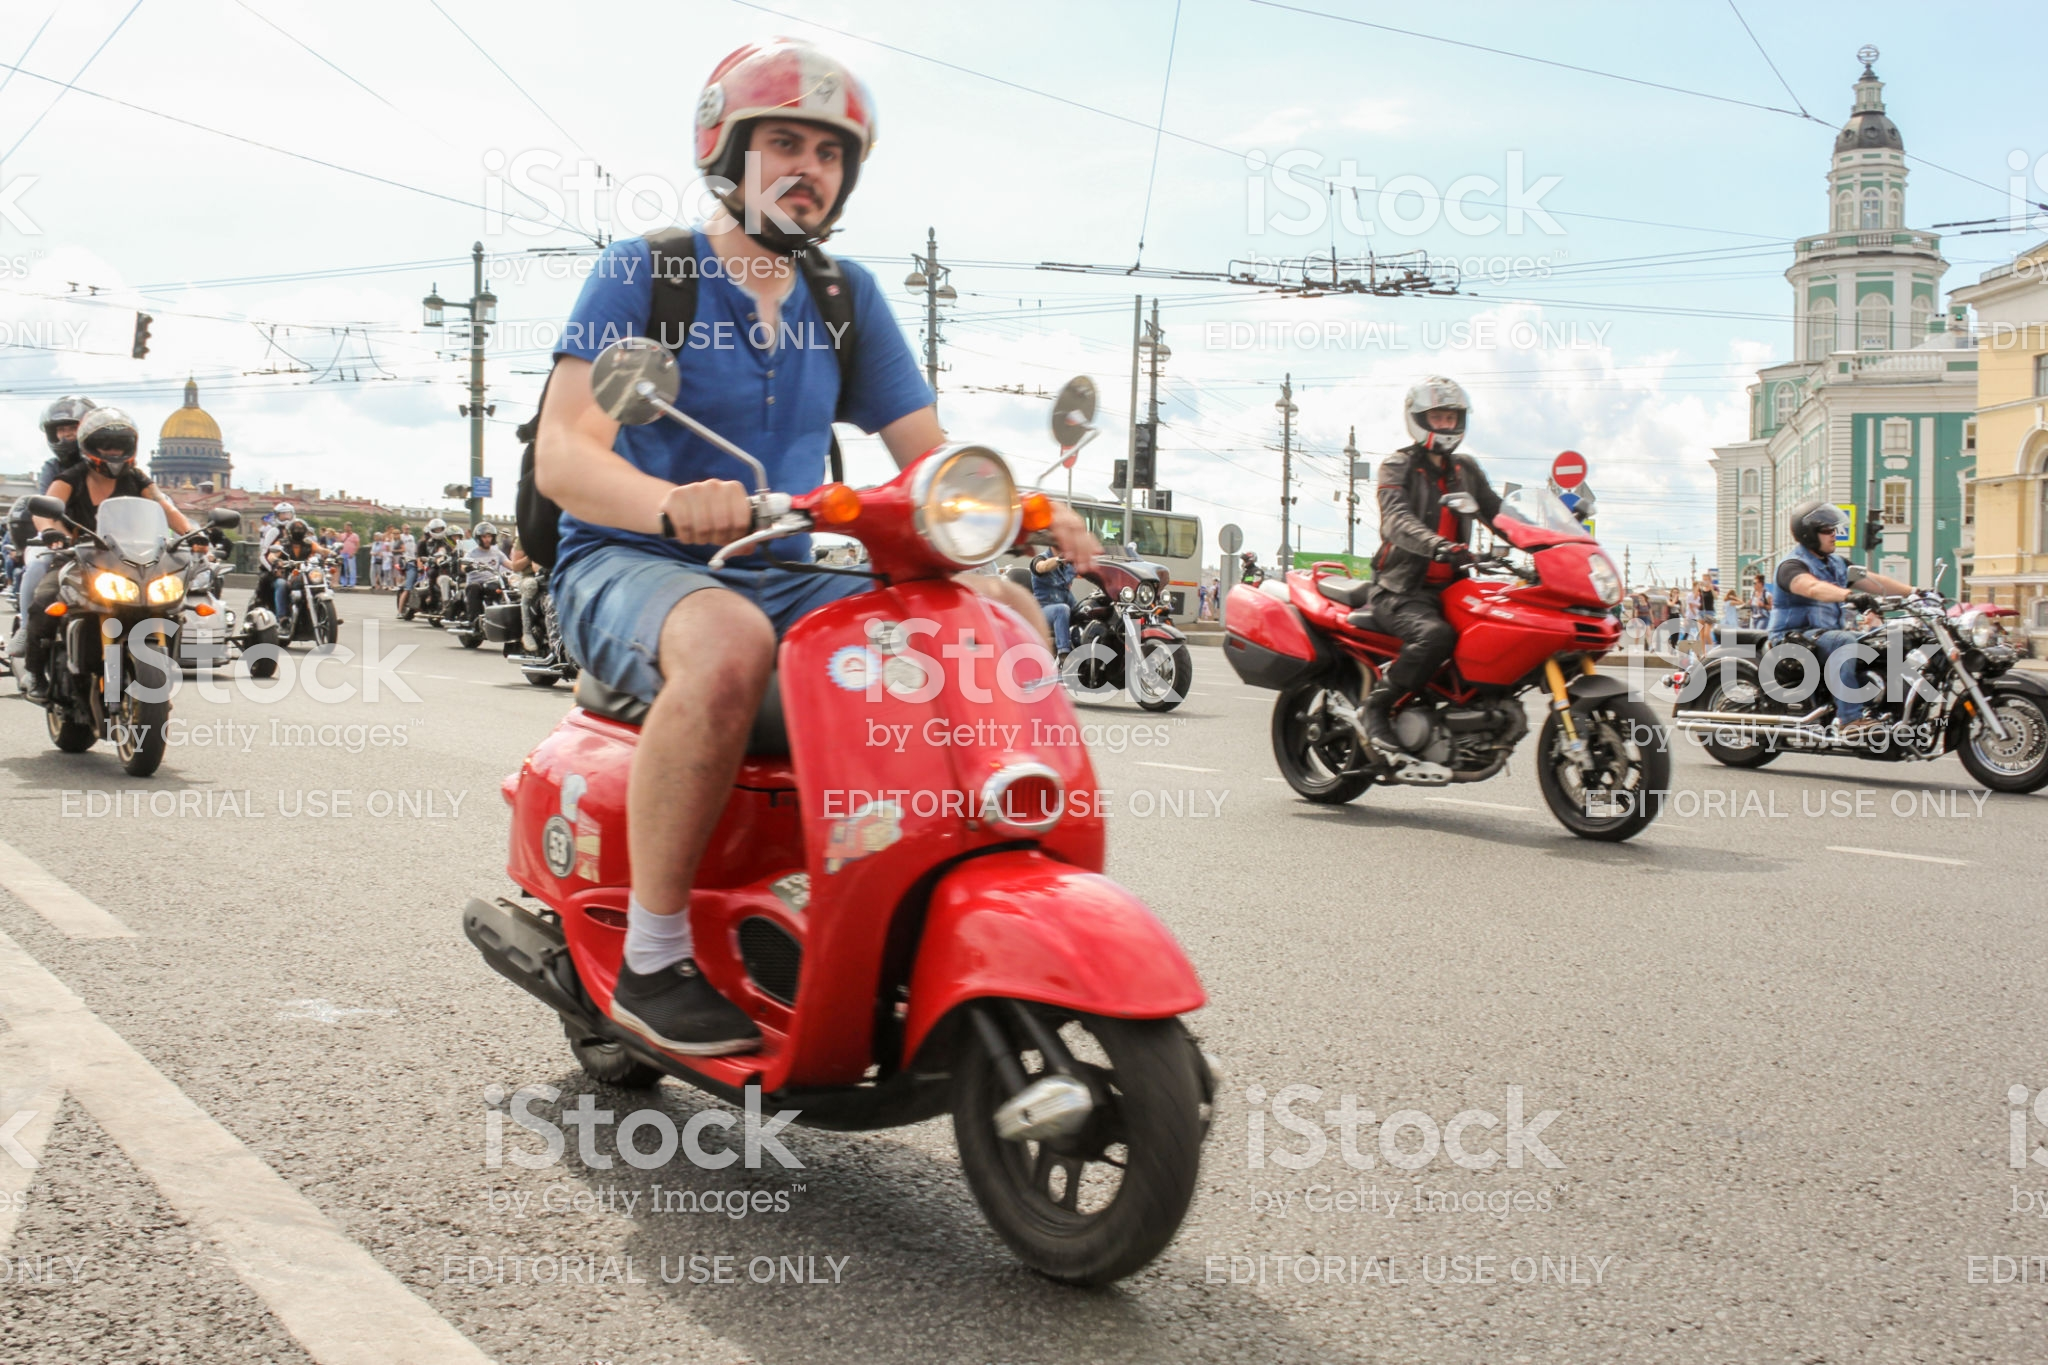helmet: (690, 29, 886, 168), (1399, 372, 1479, 452)
